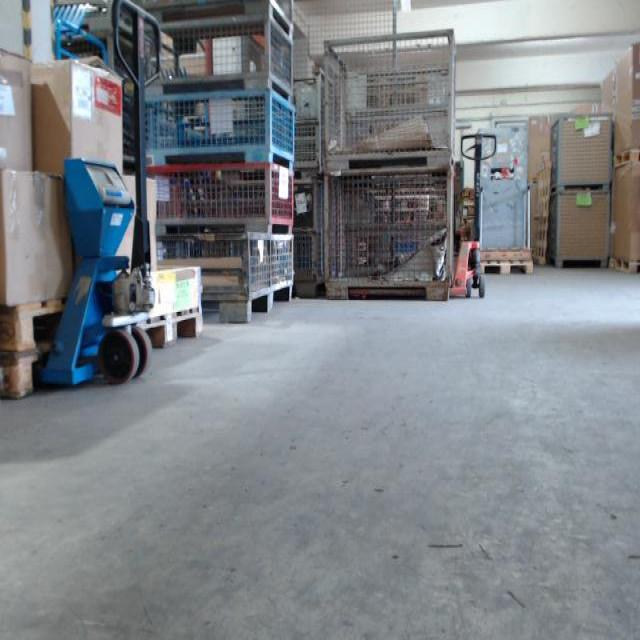pallet: (0, 303, 80, 353), (0, 341, 67, 400), (137, 306, 206, 355), (535, 162, 554, 268), (474, 257, 534, 275), (613, 256, 638, 278), (612, 149, 638, 168)
pallet_truck: (42, 37, 167, 392), (448, 131, 499, 301)
stillage: (321, 162, 458, 303), (321, 27, 458, 168), (146, 231, 297, 323), (141, 87, 297, 170), (139, 19, 294, 102), (141, 162, 296, 234), (549, 113, 613, 192), (554, 190, 613, 271), (138, 1, 295, 30), (295, 179, 321, 299), (298, 114, 320, 177)
